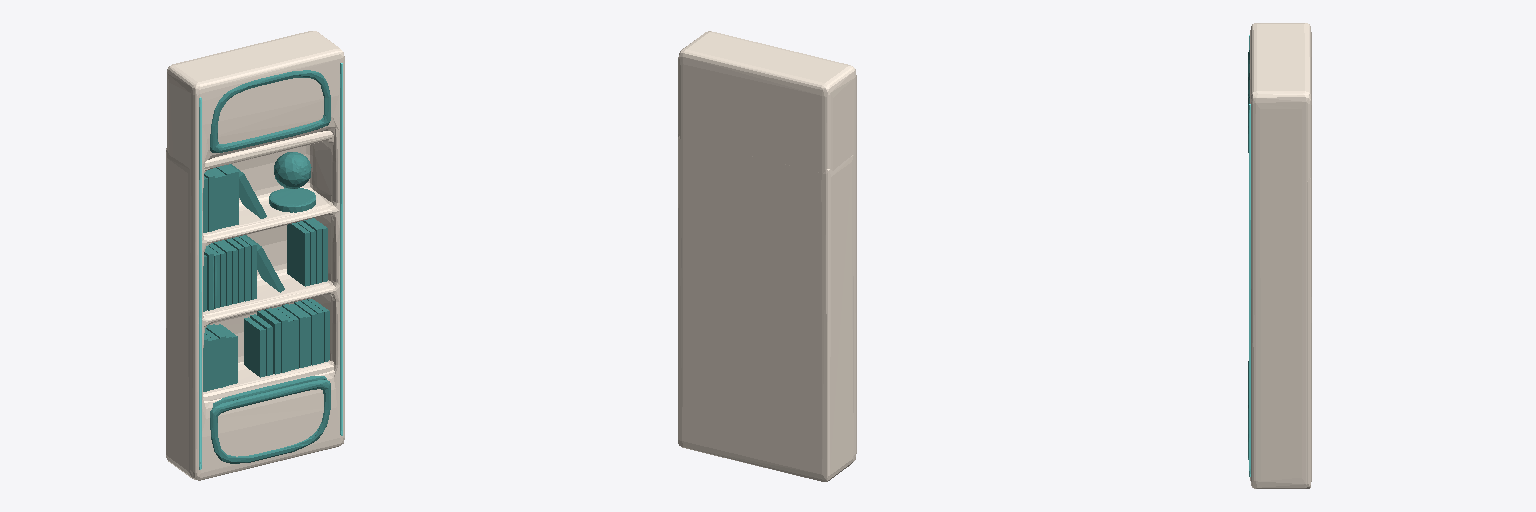
3 views of the same model, side by side, from view 1: azimuth 30°, elevation 25°; view 2: azimuth 150°, elevation 25°; view 3: azimuth 270°, elevation 25° (orthographic).
Parts seen in each view (by area): view 1: Book.045; view 2: Book.045; view 3: Book.045.
Part boxes in pixels (bbox=[...]): Book.045: bbox=[166, 31, 344, 480]; Book.045: bbox=[678, 31, 856, 481]; Book.045: bbox=[1248, 23, 1311, 488].
Bounding box in the file's own units: 2 × 5 × 0.7219.
Materials: 1 (1 with a texture image).